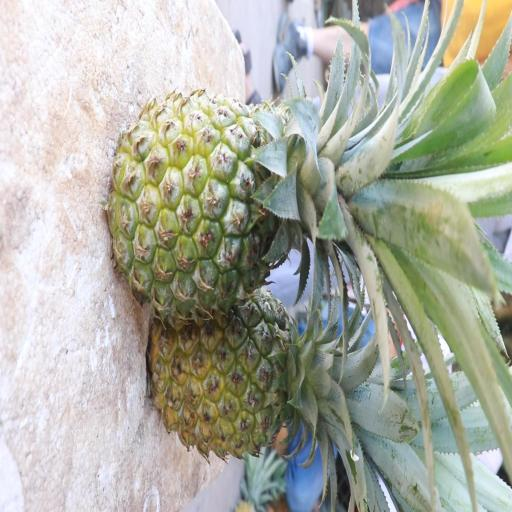------------------------------: (110, 88, 345, 318)
Pineapple - v8 v1: (153, 280, 363, 480)
